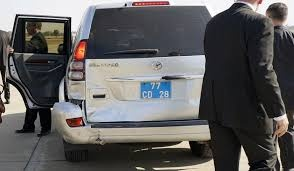Dent: (55, 94, 101, 145)
